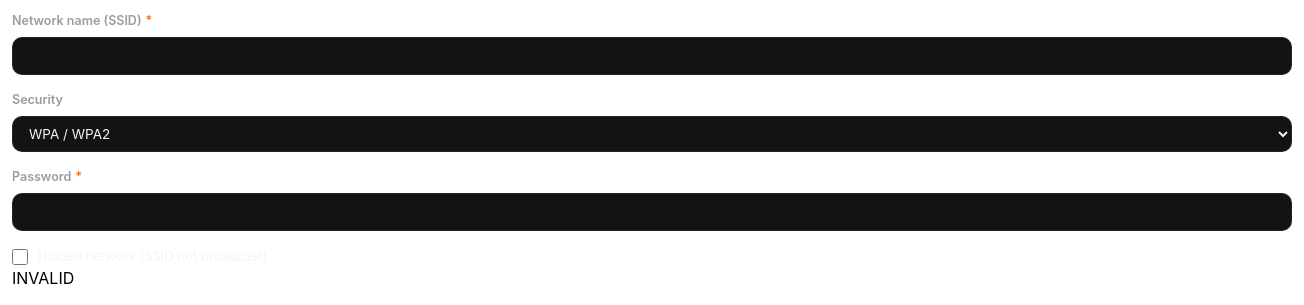
QrForm › escapes reserved characters when building a Wi-Fi payload
The image size is (1304, 305).
Type "My;Net" into the field labelled "Network name (SSID)*" at (652, 56), box [12,37,1292,75]
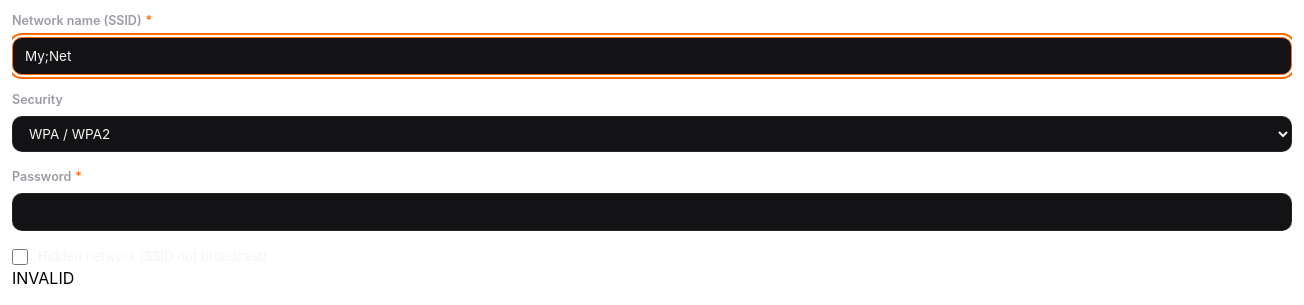
Type "a,b" into the field labelled "Password*" at (652, 212), box [12,192,1292,231]
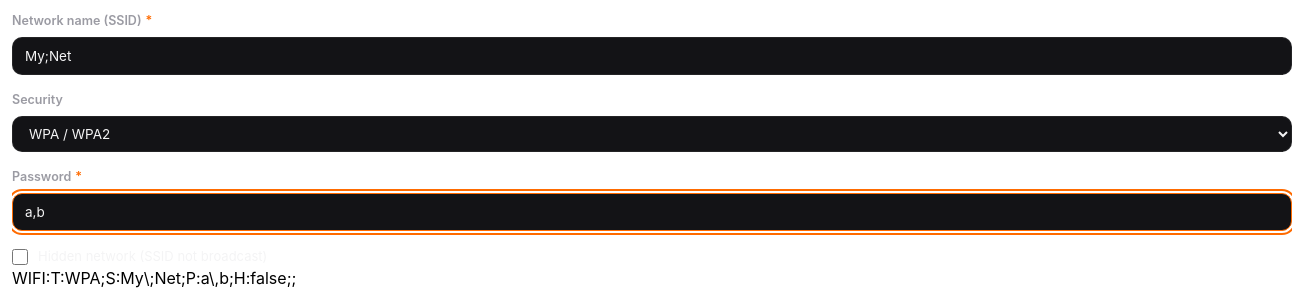
Now the text with test id "payload" reads "WIFI:T:WPA;S:My\\;Net;P:a\\,b;H:false;;", box [12,268,296,288]
